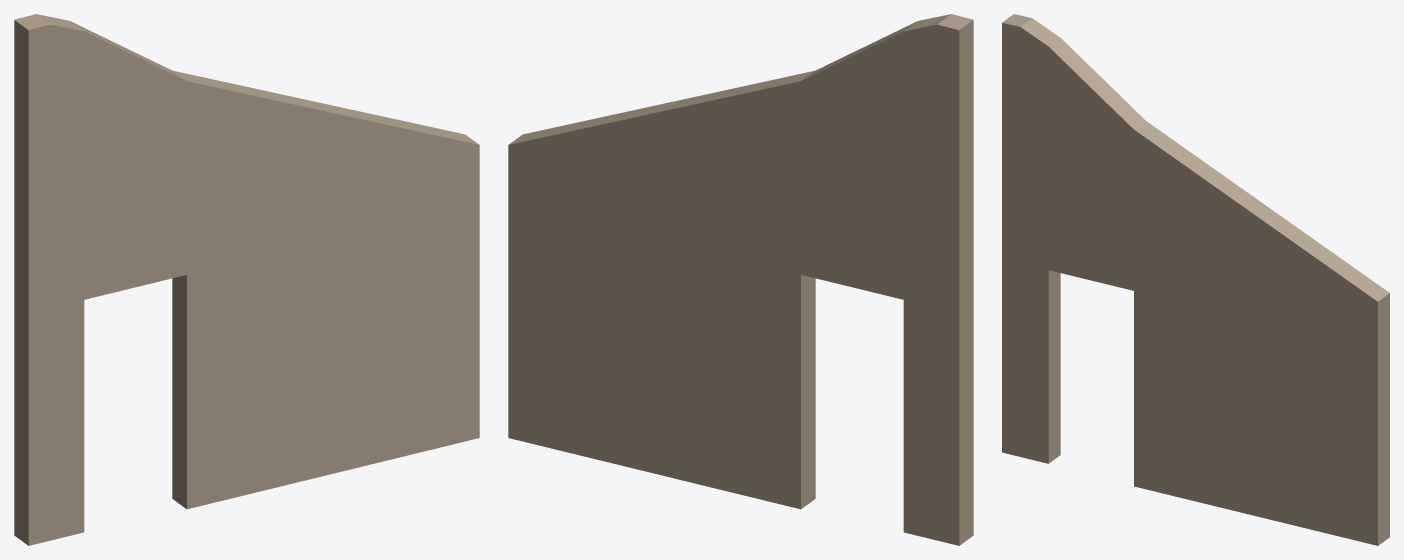
File: KitchenWall03.fbx
The picture shows the model from 3 angles, left to right: view 1: azimuth 30°, elevation 25°; view 2: azimuth 150°, elevation 25°; view 3: azimuth 330°, elevation 25°; orthographic projection. The views are drawn at different scales.
Parts seen in each view (by area): view 1: KitchenWall04; view 2: KitchenWall04; view 3: KitchenWall04.
Part boxes in pixels (bbox=[...]): KitchenWall04: bbox=[14, 14, 479, 545]; KitchenWall04: bbox=[508, 14, 973, 545]; KitchenWall04: bbox=[1002, 14, 1389, 545].
Bounding box in the file's own units: 0.7728 × 0.8481 × 0.0428.
